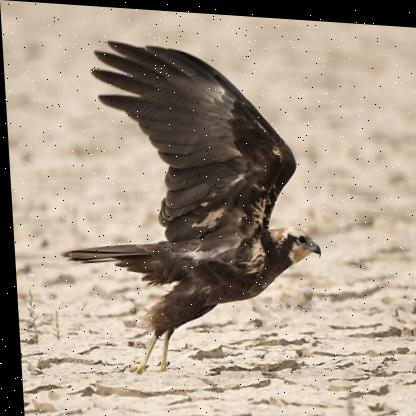Burung: (48, 37, 327, 384)
